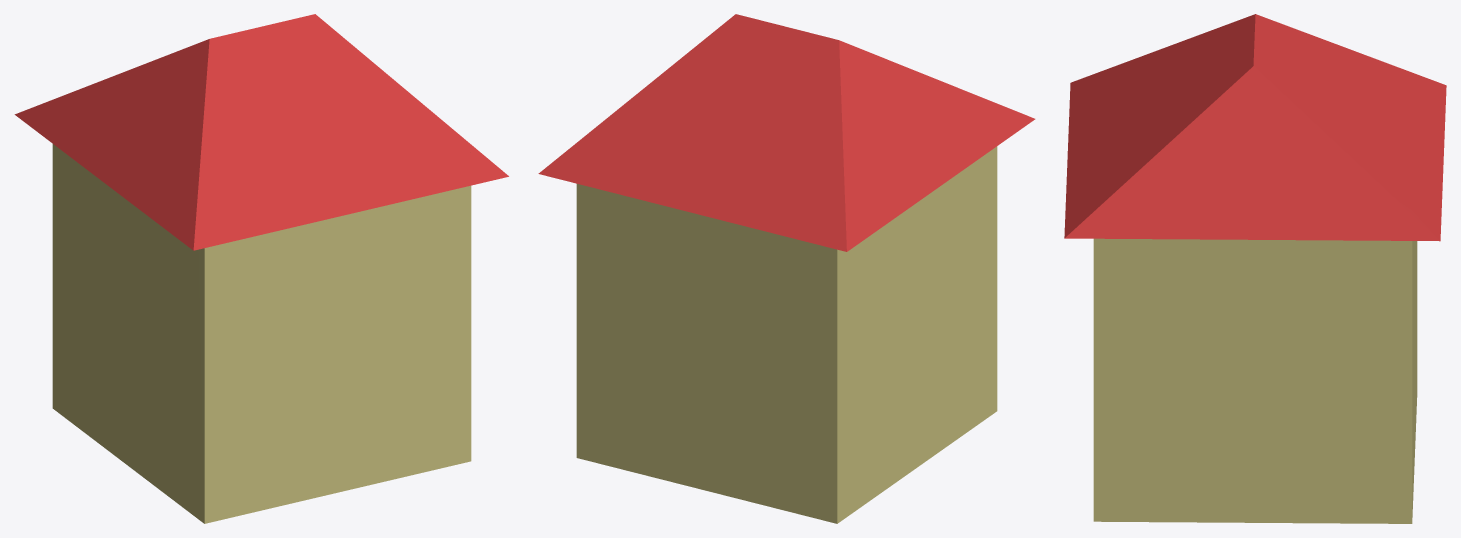
The picture shows the model from 3 angles, left to right: view 1: azimuth 30°, elevation 25°; view 2: azimuth 150°, elevation 25°; view 3: azimuth 270°, elevation 25°; orthographic projection. The views are drawn at different scales.
Visible parts, largest first — view 1: group_5, group_3, group_4; view 2: group_5, group_3, group_4; view 3: group_5, group_3, group_4.
Boxes of the visible parts, left/top/right/bottom form: group_5: left=52, top=144, right=471, bottom=523; group_3: left=60, top=14, right=508, bottom=250; group_4: left=14, top=97, right=508, bottom=249; group_5: left=576, top=146, right=997, bottom=523; group_3: left=577, top=14, right=1034, bottom=251; group_4: left=538, top=110, right=1035, bottom=251; group_5: left=1093, top=238, right=1417, bottom=523; group_3: left=1064, top=14, right=1446, bottom=241; group_4: left=1064, top=67, right=1446, bottom=240.
Bounding box in the file's own units: 13.03 × 13.29 × 16.
